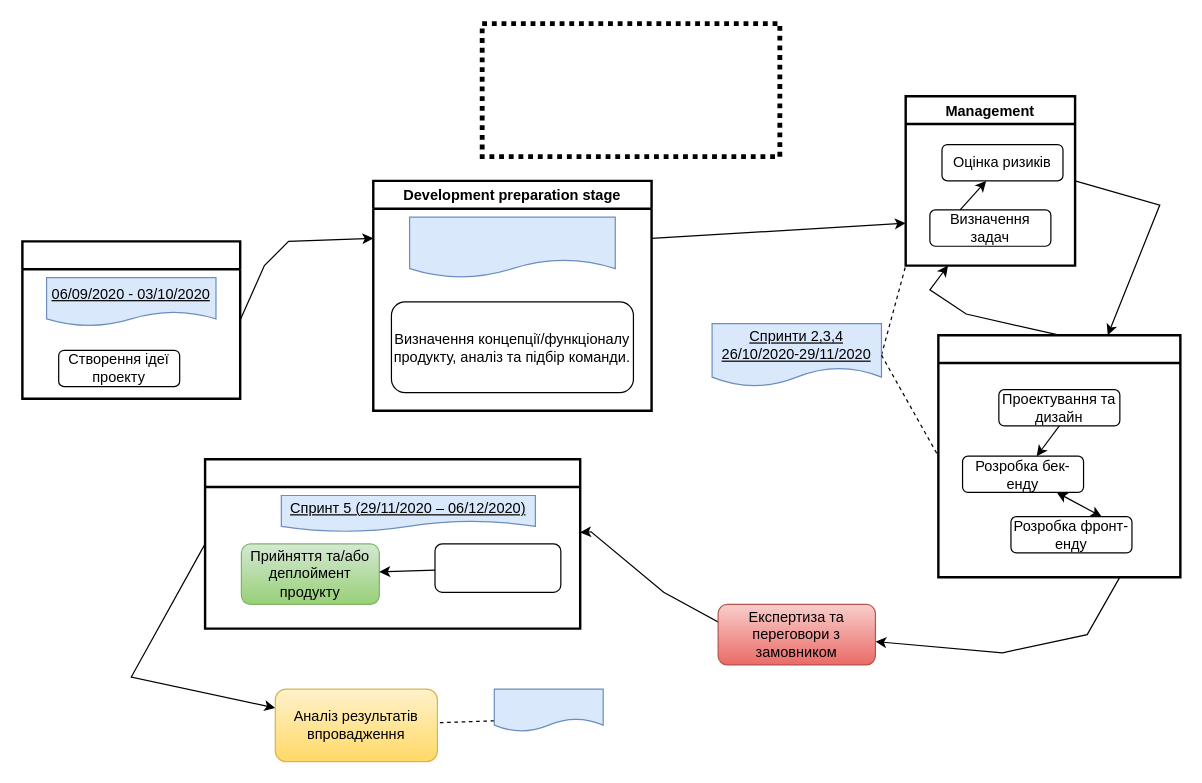
The diagram is 1202 pixels wide and 783 high, and some of its shapes have lost their labels. Here are the shapes that lost their labels. From the top down, the box of each, then its label:
(479, 21, 782, 159): Fair Online Judge Development Stages
(408, 216, 615, 278): Спринт 1 04/10/2020 - 25/10/2020
(21, 240, 241, 399): Initial stage
(937, 333, 1181, 578): Development
(203, 457, 581, 629): Final stage
(434, 543, 561, 592): Внесення незначних правок
(493, 688, 603, 731): Optional stage
